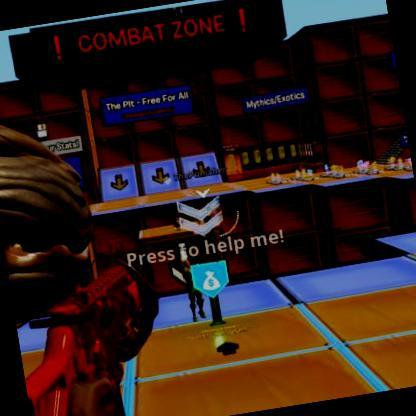person: (174, 258, 208, 322)
